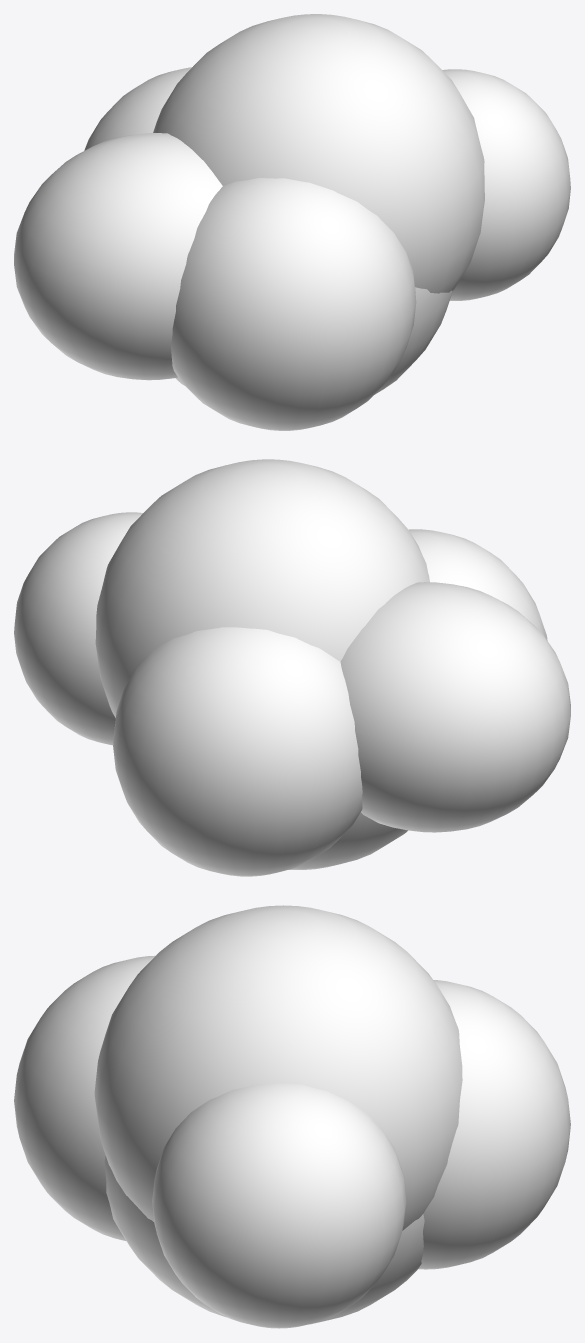
File: Nuvem03.glb
3 renders of one model, top to bottom at view 1: azimuth 30°, elevation 25°; view 2: azimuth 150°, elevation 25°; view 3: azimuth 270°, elevation 25°, orthographic. The views are drawn at different scales.
Visible parts, largest first — view 1: Sphere.005; view 2: Sphere.005; view 3: Sphere.005.
Boxes of the visible parts, x1=… form: Sphere.005: x1=14, y1=14, x2=570, y2=430; Sphere.005: x1=14, y1=459, x2=570, y2=876; Sphere.005: x1=14, y1=905, x2=570, y2=1328.
Bounding box in the file's own units: 4.94 × 3.31 × 4.17.
1 material, 1 textured.
